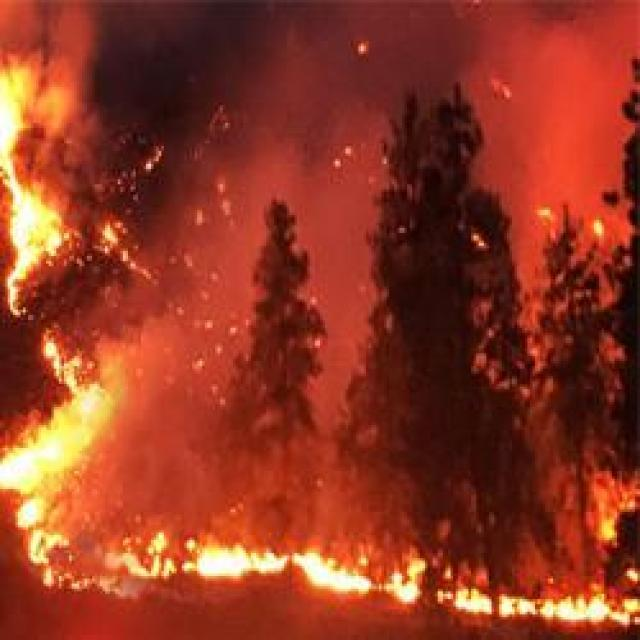Fire: (0, 486, 640, 630), (0, 25, 107, 592)
Smoke: (0, 15, 640, 552)
